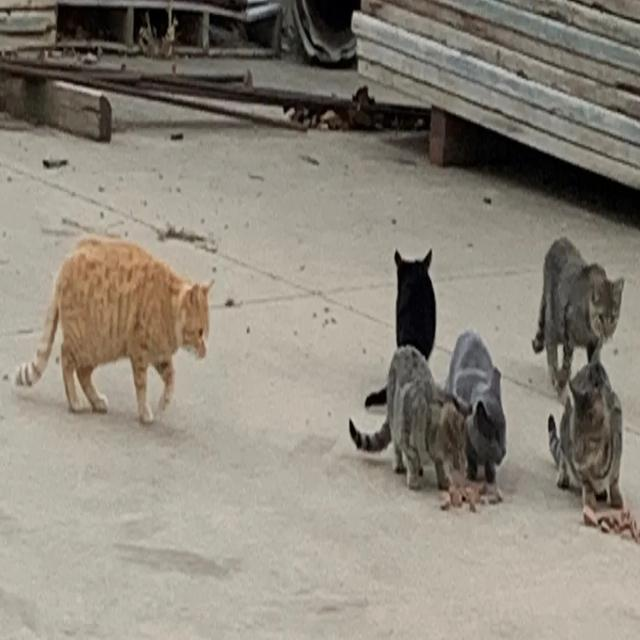cat: (15, 237, 209, 424), (532, 240, 624, 509), (350, 344, 470, 489), (532, 237, 624, 392), (446, 331, 506, 483), (395, 251, 436, 359), (365, 388, 386, 407)
